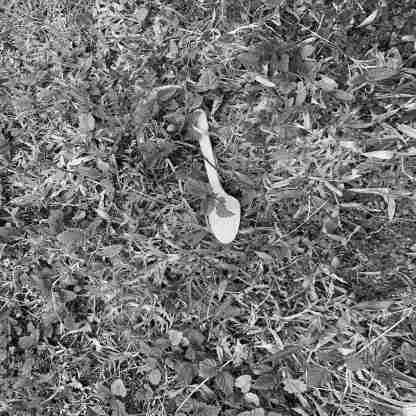plastic: (186, 106, 243, 244)
